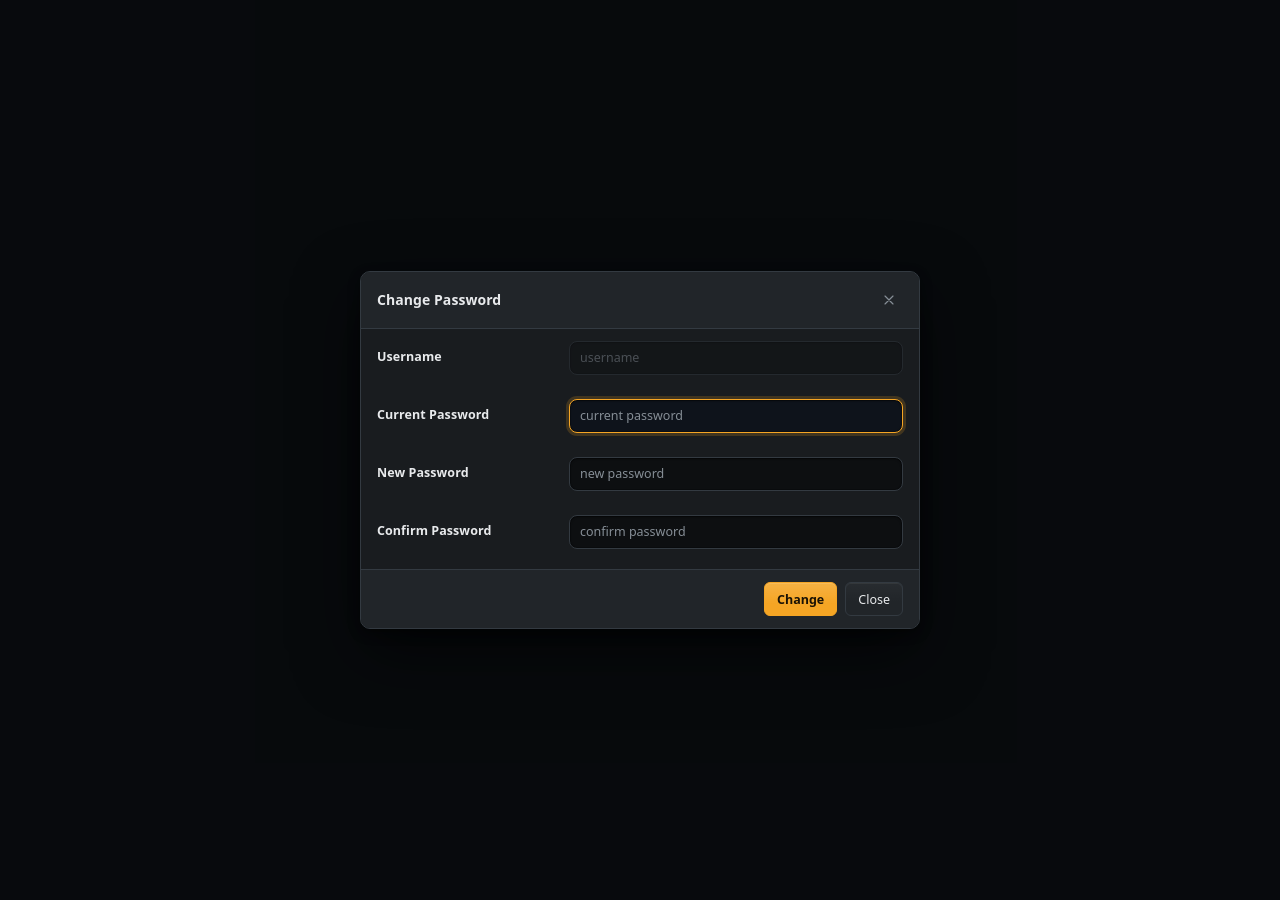
Scenario: Change Password › it requires the new one before the confirmation: the order is contract
The width and height of the screenshot is (1280, 900).
In the password field labelled "Current Password": (736, 416) [569,399,903,433], type "old-one"
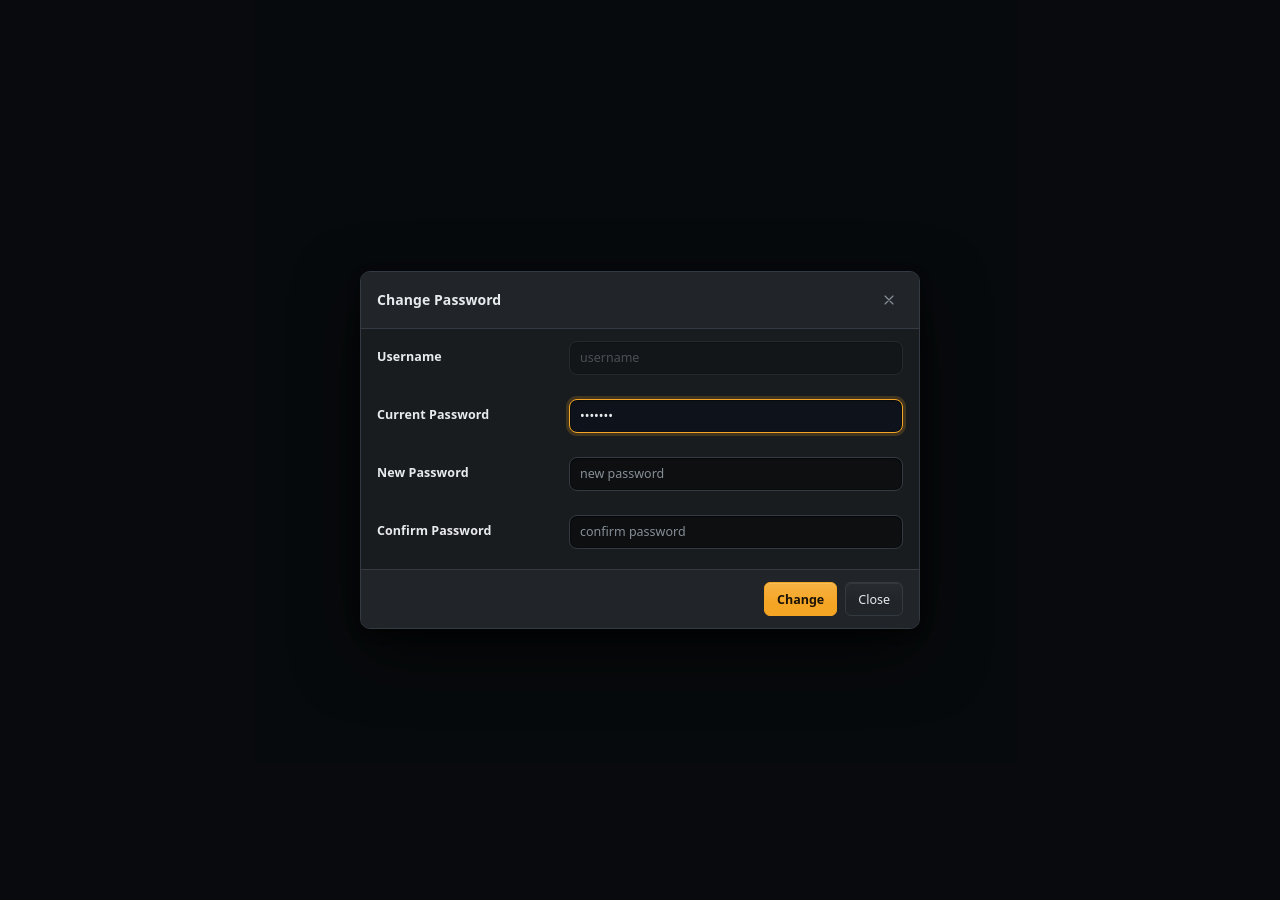
Click the button "Change": (801, 599) [764,582,837,616]
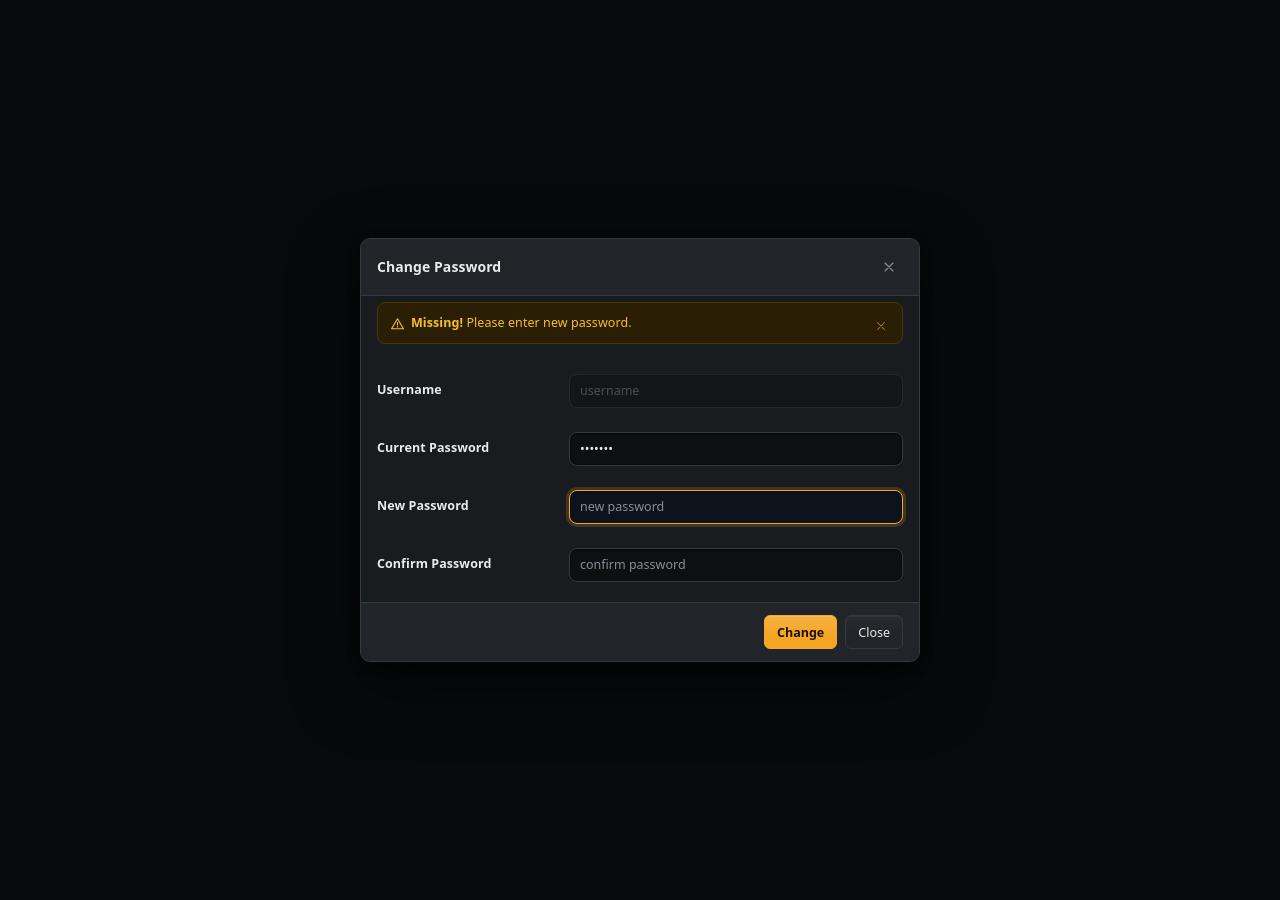
Expected: the text "Please enter new password." is shown, [466,314,632,331]
